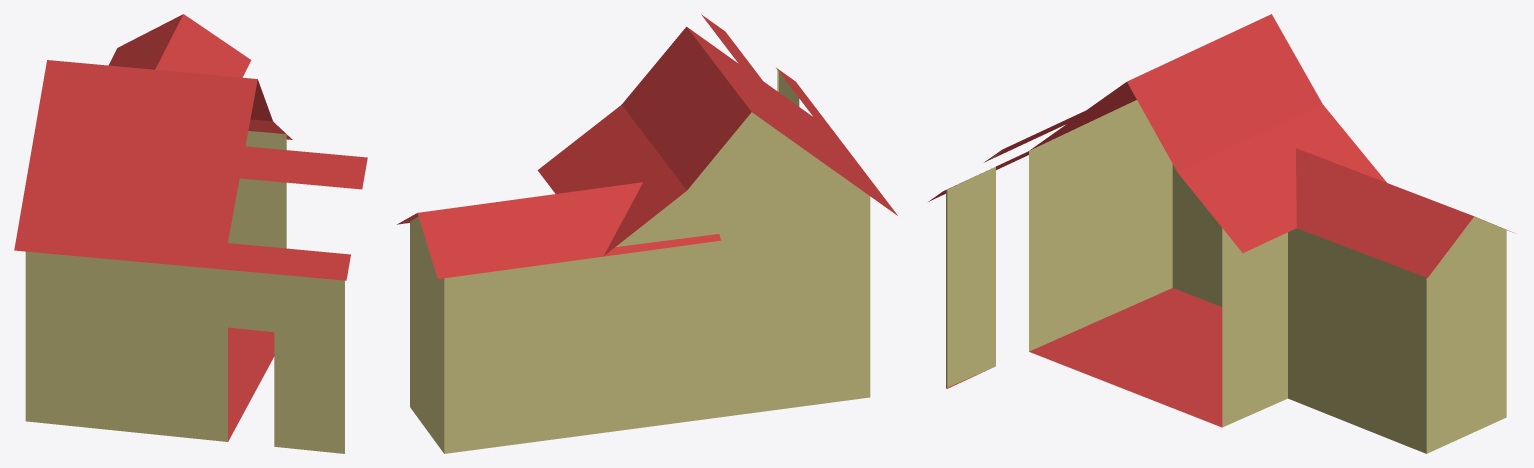
3 renders of one model, left to right at view 1: azimuth 30°, elevation 25°; view 2: azimuth 150°, elevation 25°; view 3: azimuth 270°, elevation 25°, orthographic.
Size of the model in its own units: 20.08 by 27.58 by 15.84.
